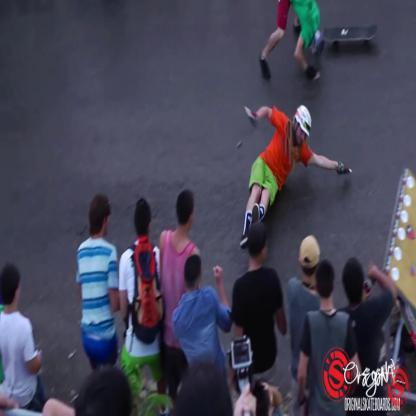Fall_Down: (239, 105, 355, 250)
